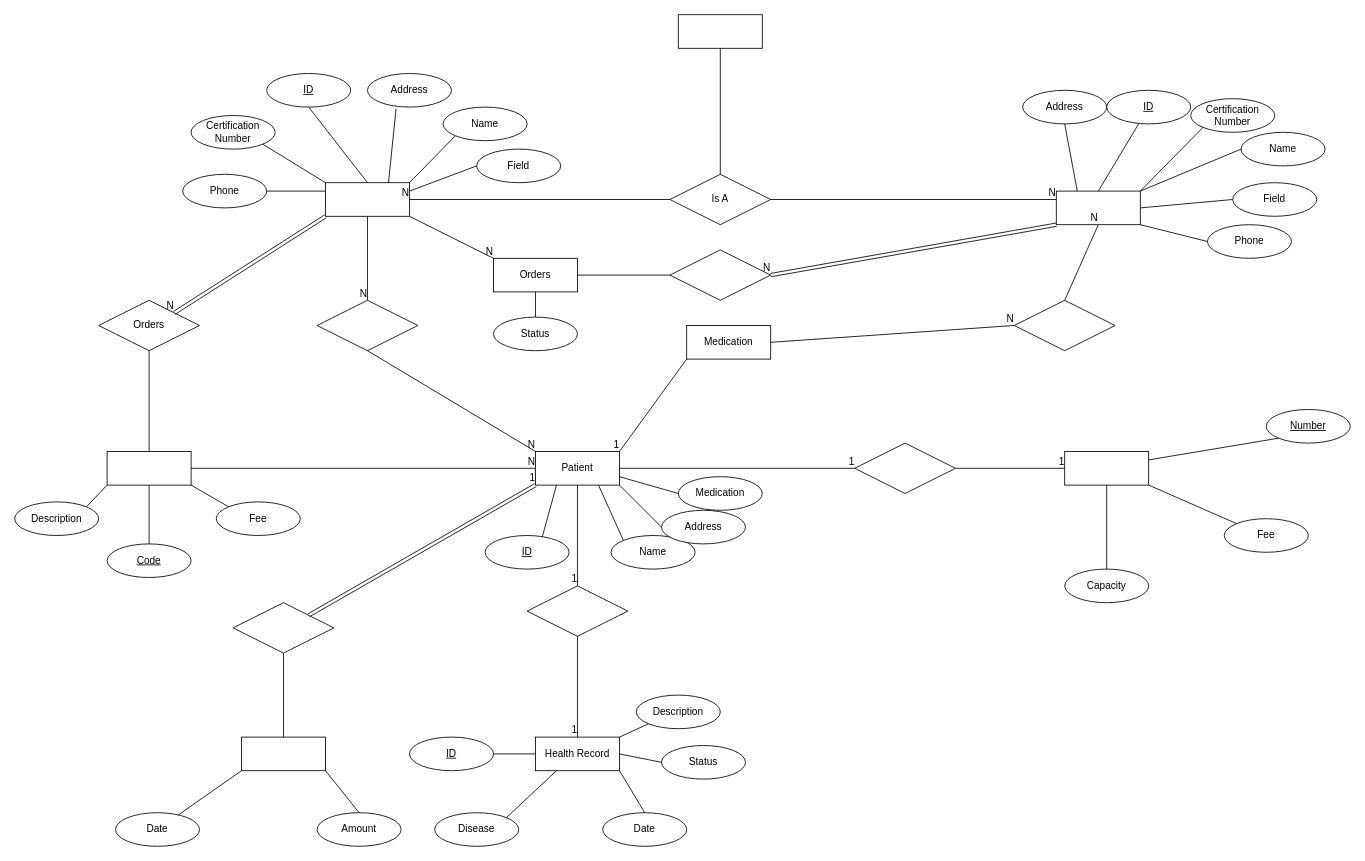
Image size: 1365x861. Some labels were removed from this diagram. The centre of each missing label's shape, as x and y in pixels:
Employee: (719,31)
Executes: (720,274)
Has A: (577,610)
Instruction: (148,468)
Is Hospitalized In: (905,468)
Monitors: (367,325)
Nurse: (1097,207)
Payment: (283,753)
Pays With: (283,627)
Physician: (367,199)
Provides: (1064,325)
Room: (1106,468)
